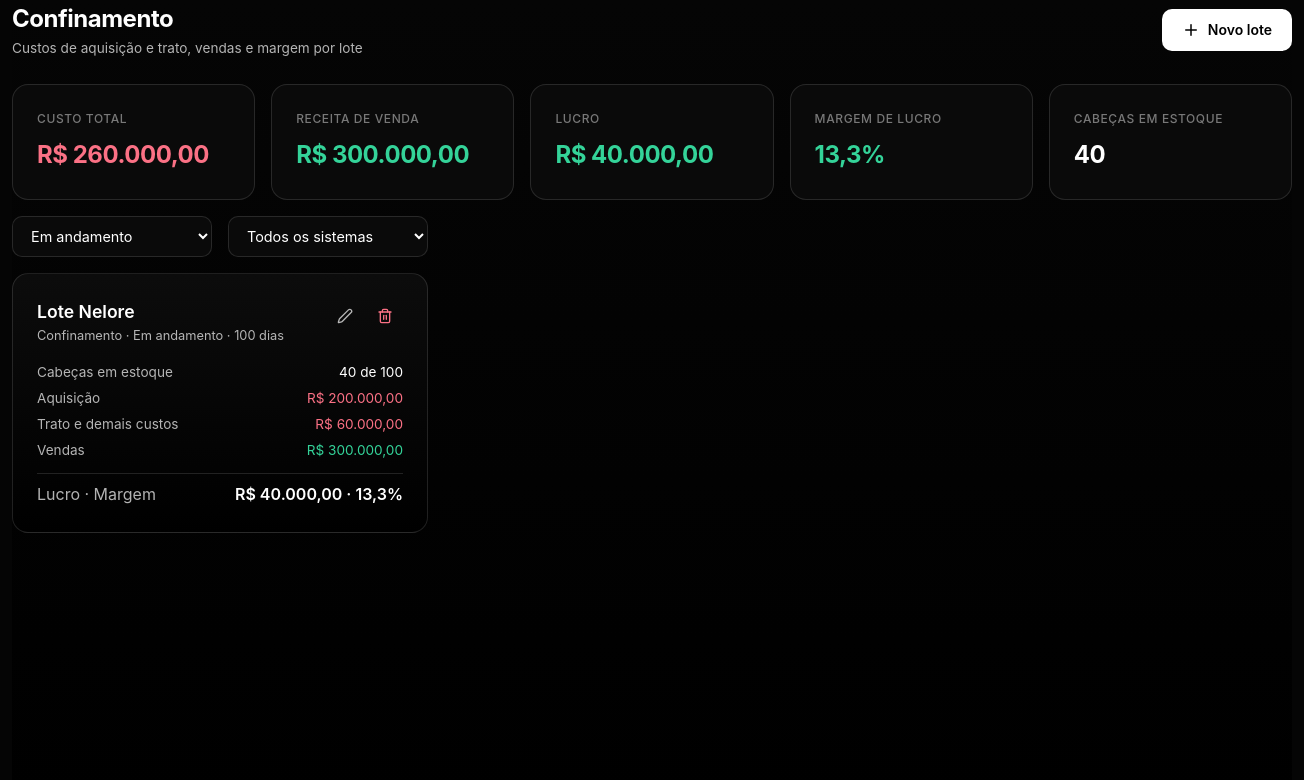
Test: Cattle page › shows the API validation message when a sale exceeds the stock
Click the heading "Lote Nelore" at (86, 311), box [37,301,135,322]
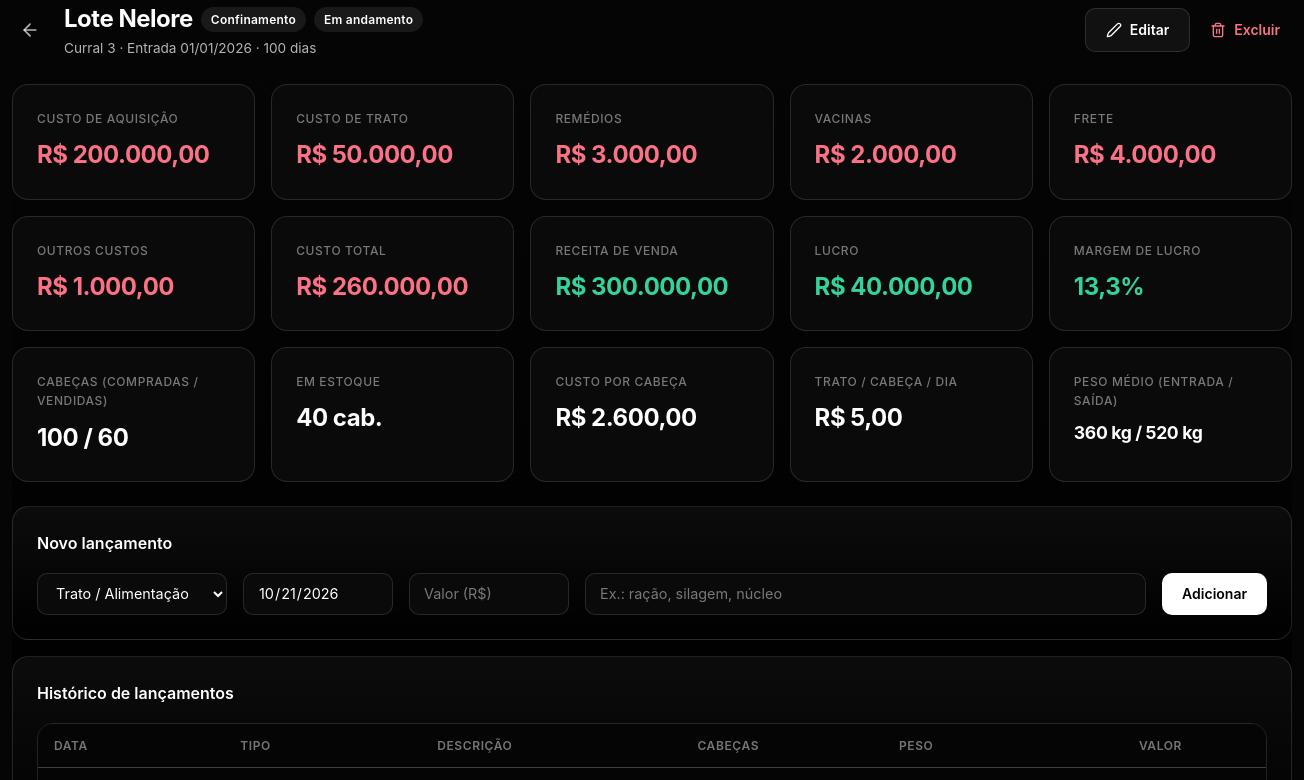
Select "Venda" in the dropdown named "Tipo de lançamento" at (132, 594), box [37,573,227,615]
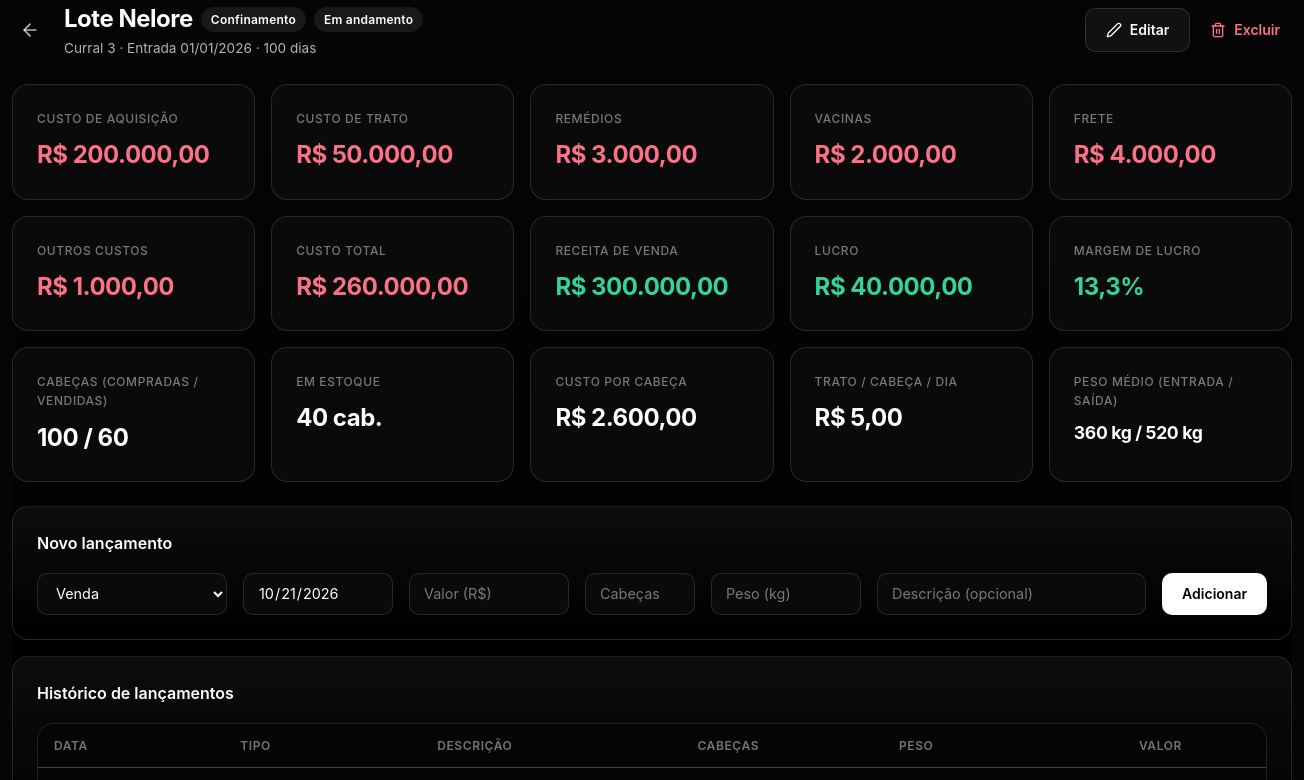
Type "1000" into the field with placeholder "Valor (R$)" at (489, 594), box [409,573,569,615]
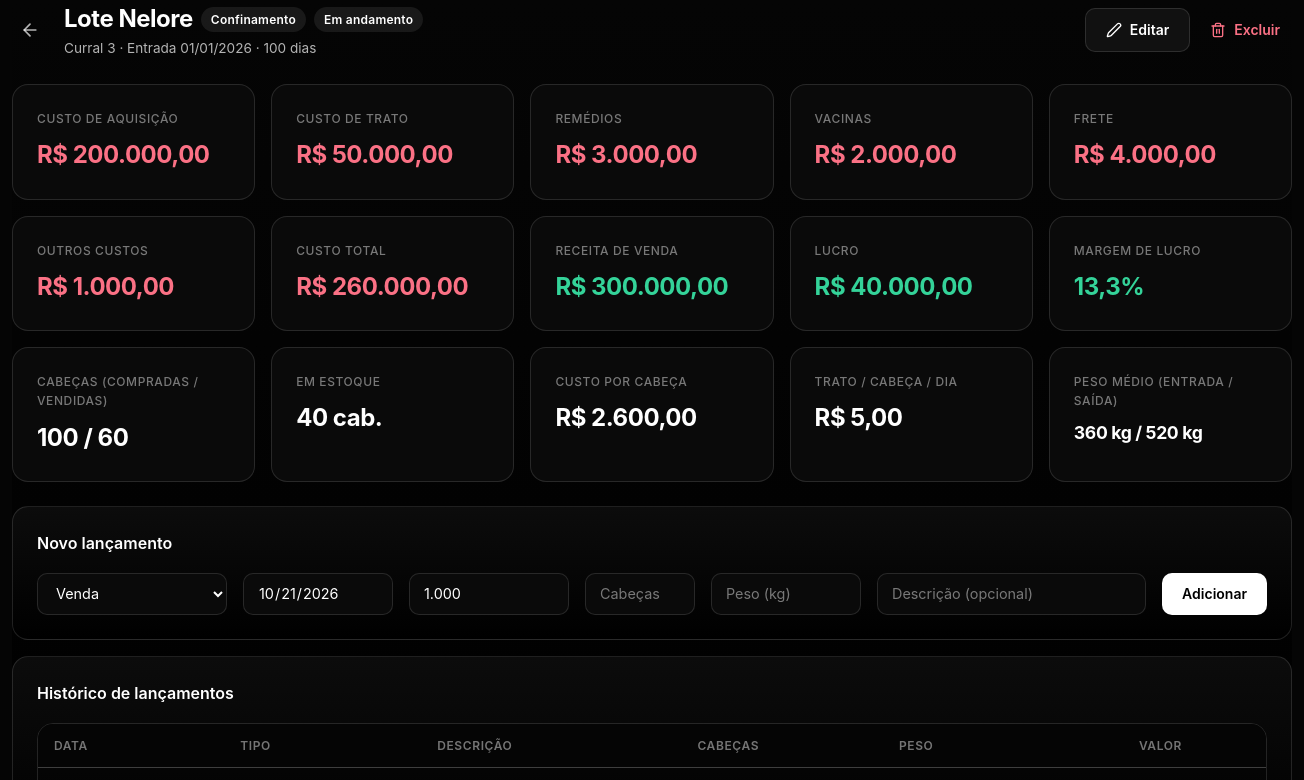
Type "50" into the number field labelled "Cabeças" at (640, 594), box [585,573,695,615]
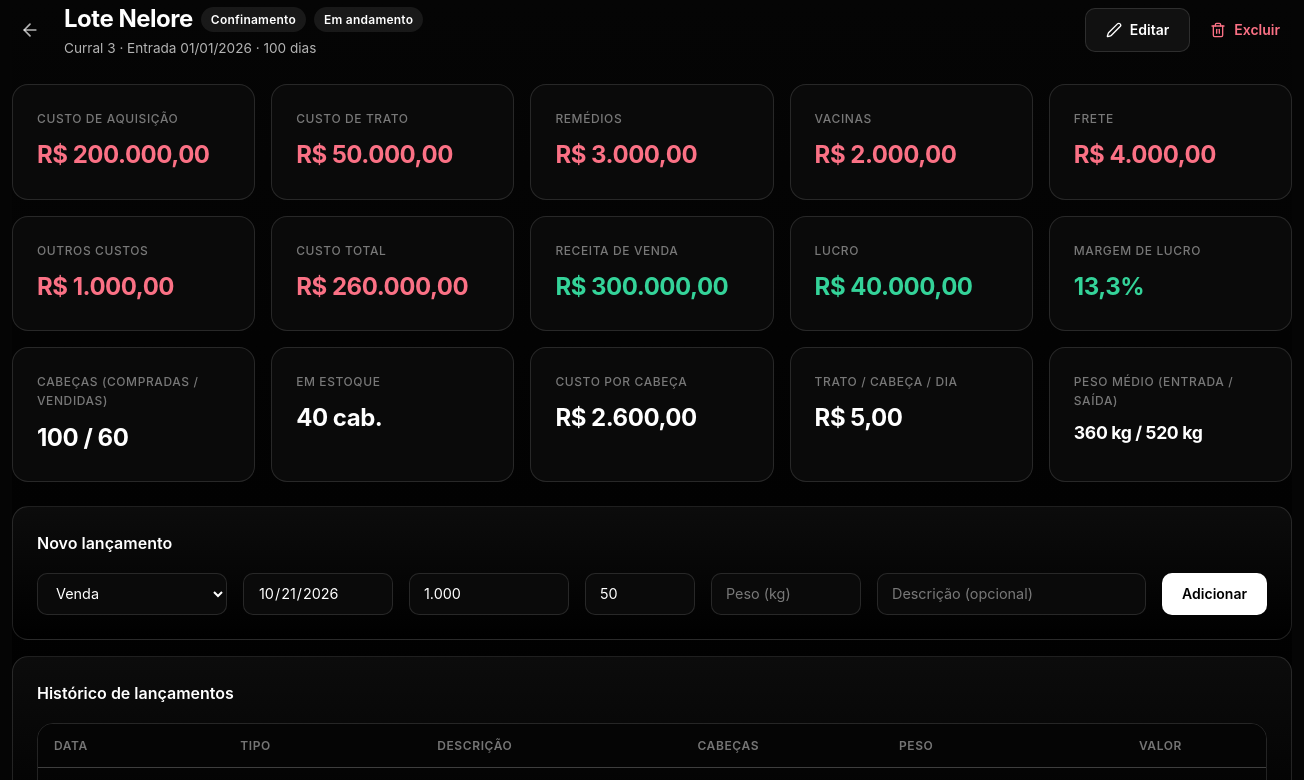
Click the button "Adicionar" at (1215, 594), box [1162,573,1267,615]
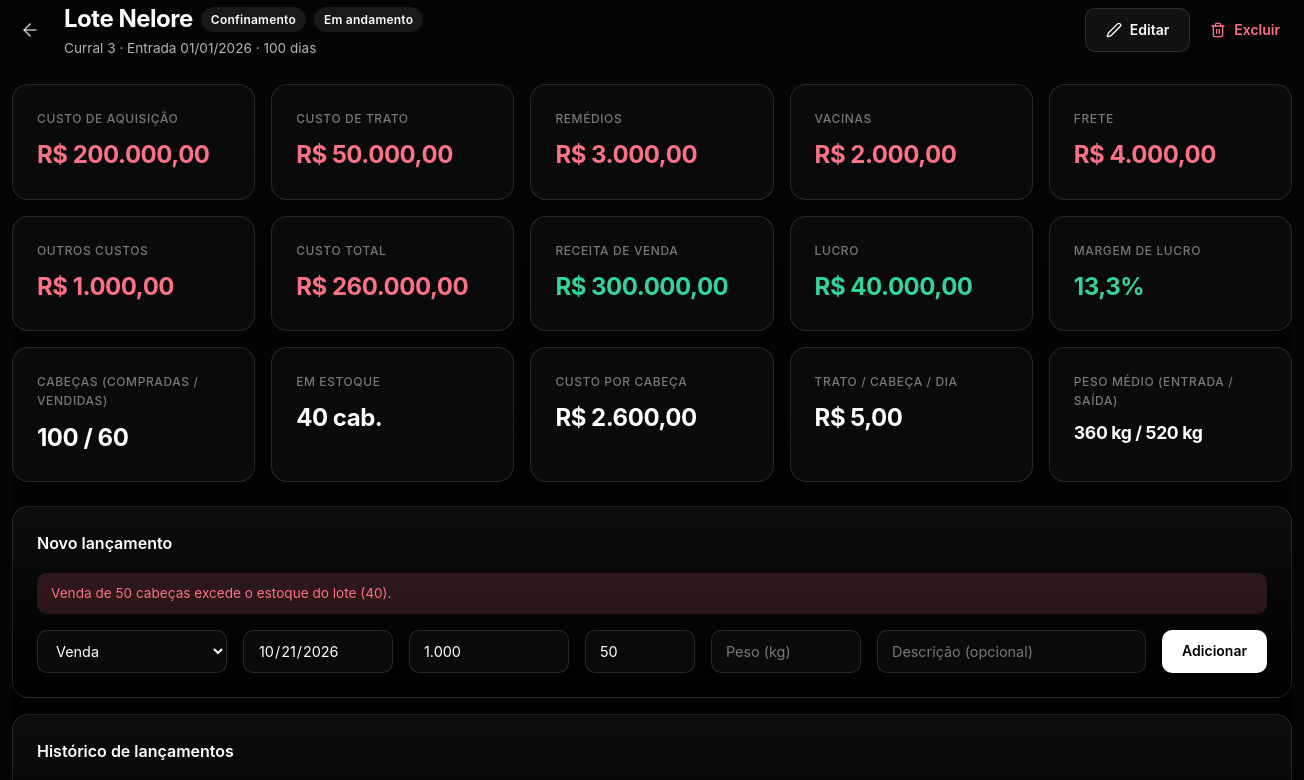
Check: the message shows "excede o estoque do lote (40)", box [51,585,391,601]
